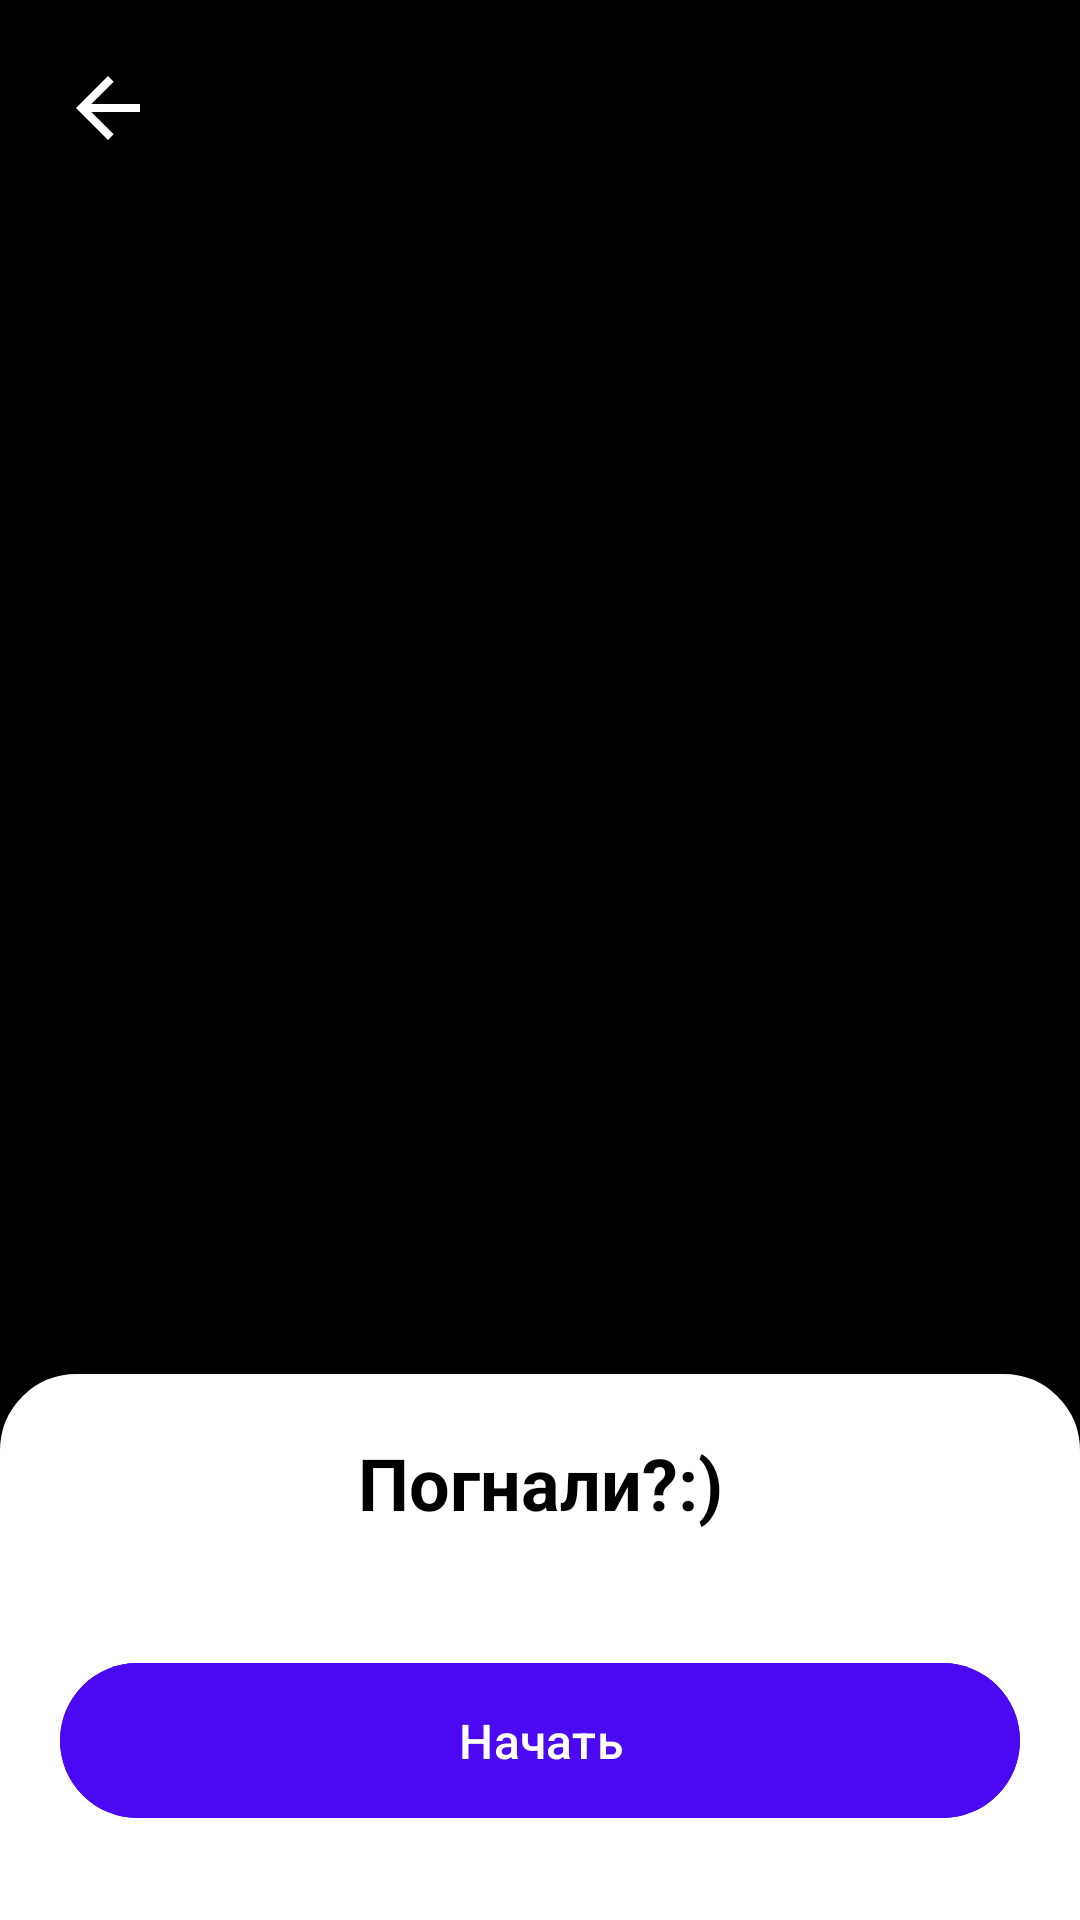

Icons on this 1080x1920 Android screen, each with the point to tap as point (x, y):
arrow back: point (108, 108)
